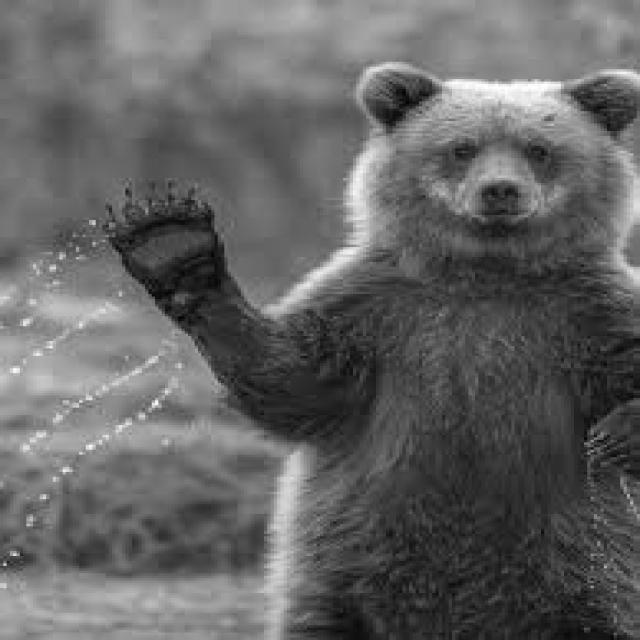Bear: (288, 23, 614, 640)
